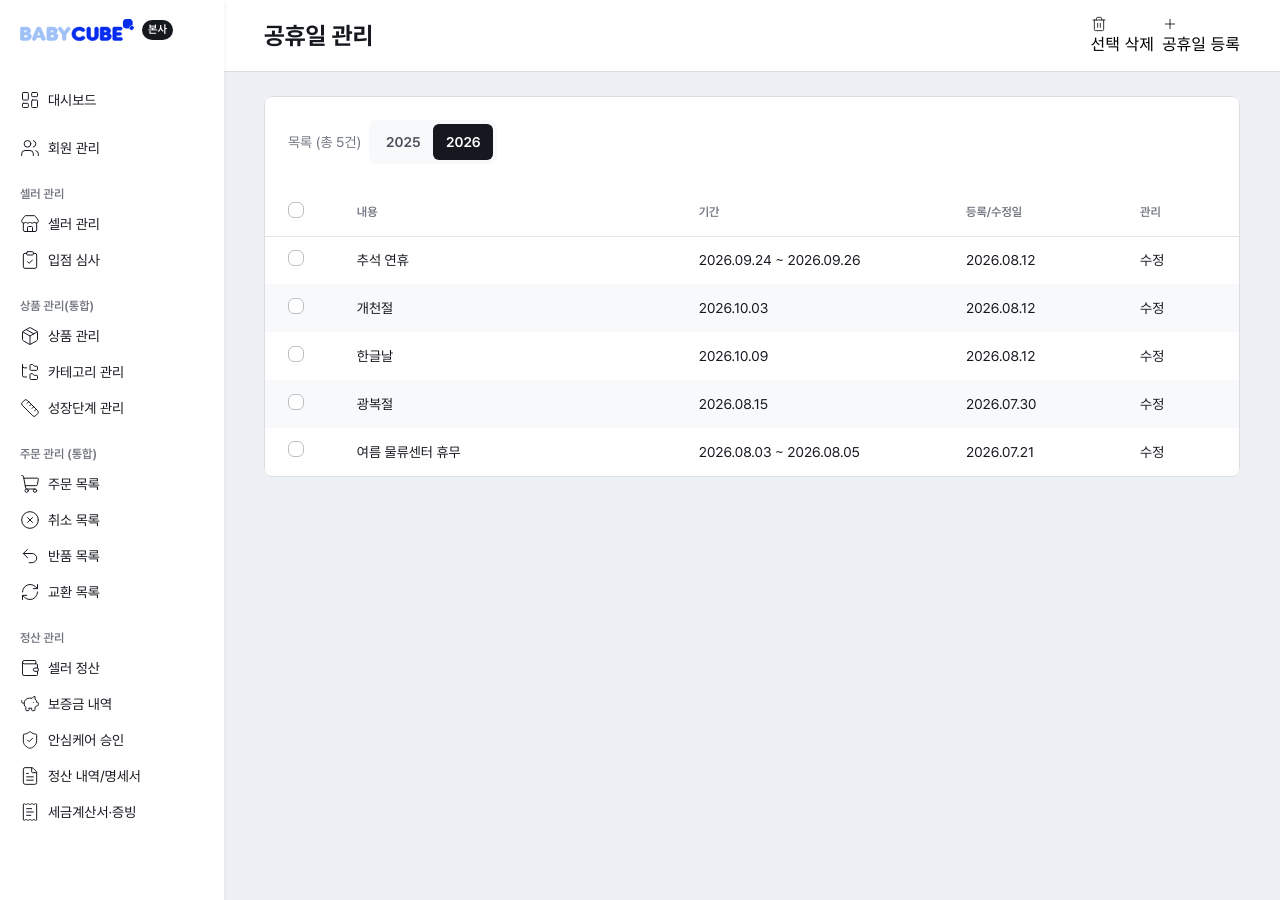
Test: HolidayListPage › 행 선택·선택 삭제 › 전체 선택은 보이는 행 전부를 고른다
The width and height of the screenshot is (1280, 900).
Click the checkbox named "전체 선택": (296, 210) [288,202,304,218]
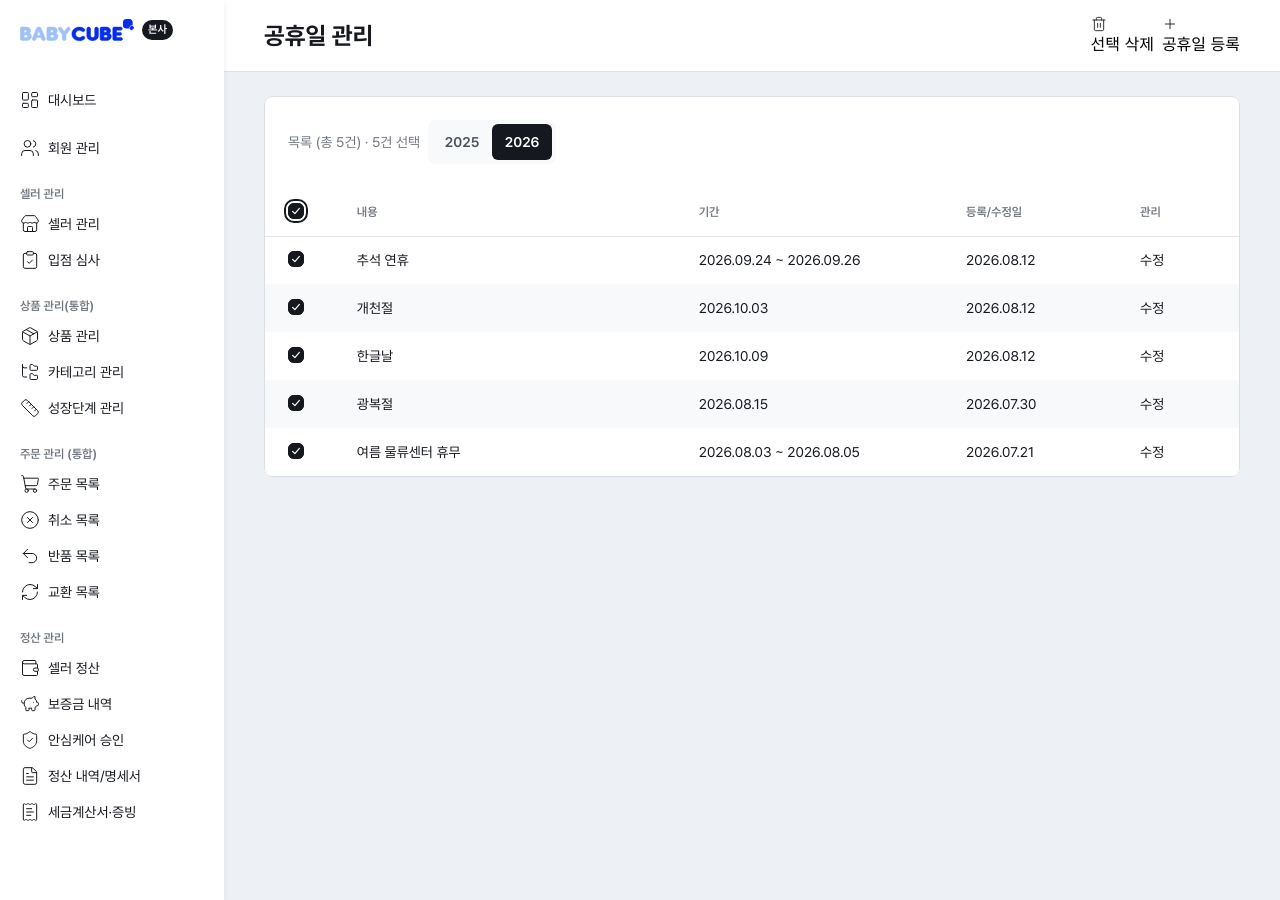
Expected: the text "목록 (총 5건) · 5건 선택" is shown, [288,132,420,152]
